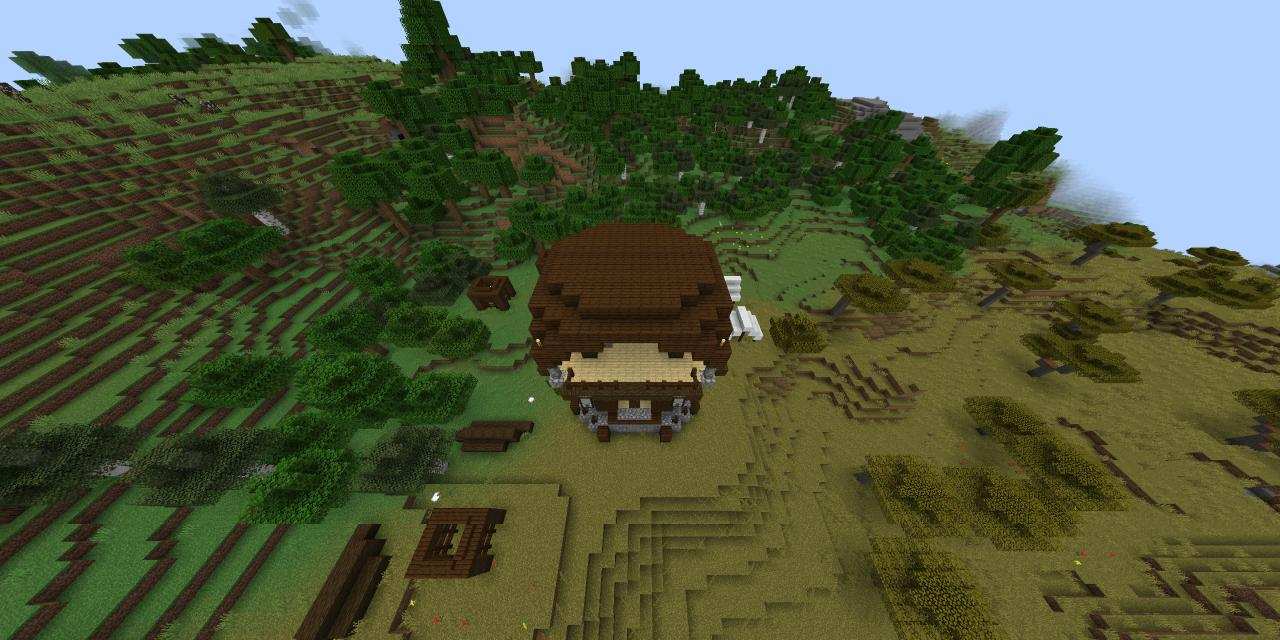pillager outpost: (518, 211, 752, 456)
